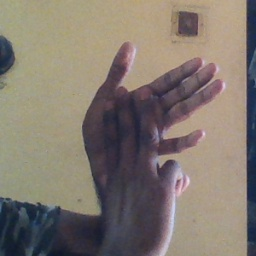M: (75, 40, 233, 212)
